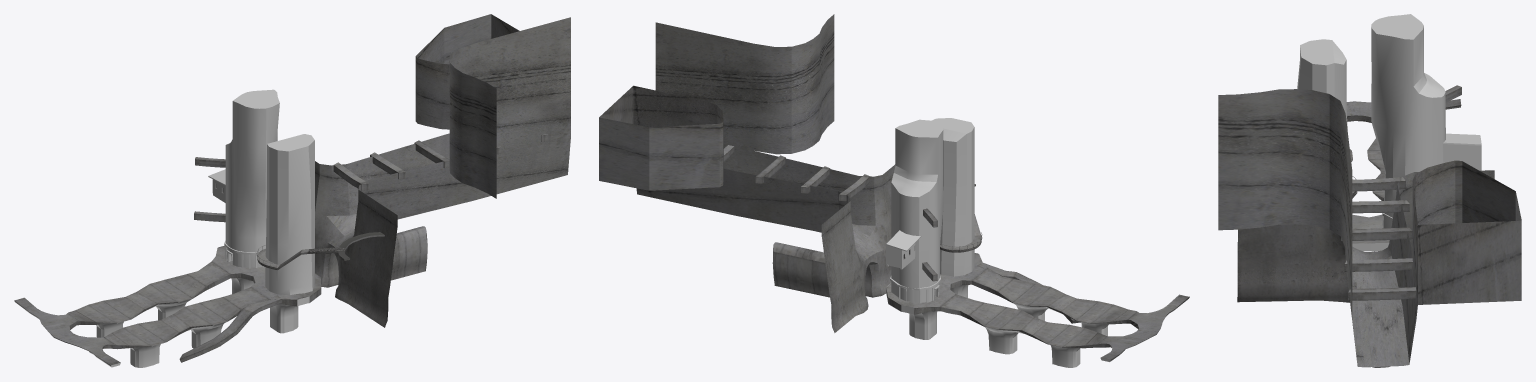
File: SM_BetonDarme_01_04.fbx
The picture shows the model from 3 angles, left to right: view 1: azimuth 30°, elevation 25°; view 2: azimuth 150°, elevation 25°; view 3: azimuth 270°, elevation 25°; orthographic projection. The views are drawn at different scales.
Parts seen in each view (by area): view 1: SM_BetonDarme_01_04; view 2: SM_BetonDarme_01_04; view 3: SM_BetonDarme_01_04.
Part boxes in pixels (x1,y1,x2,y2): SM_BetonDarme_01_04: (14,14,570,367); SM_BetonDarme_01_04: (599,14,1189,367); SM_BetonDarme_01_04: (1218,14,1521,367).
Size of the model in its own units: 17901 by 7619 by 7431.
